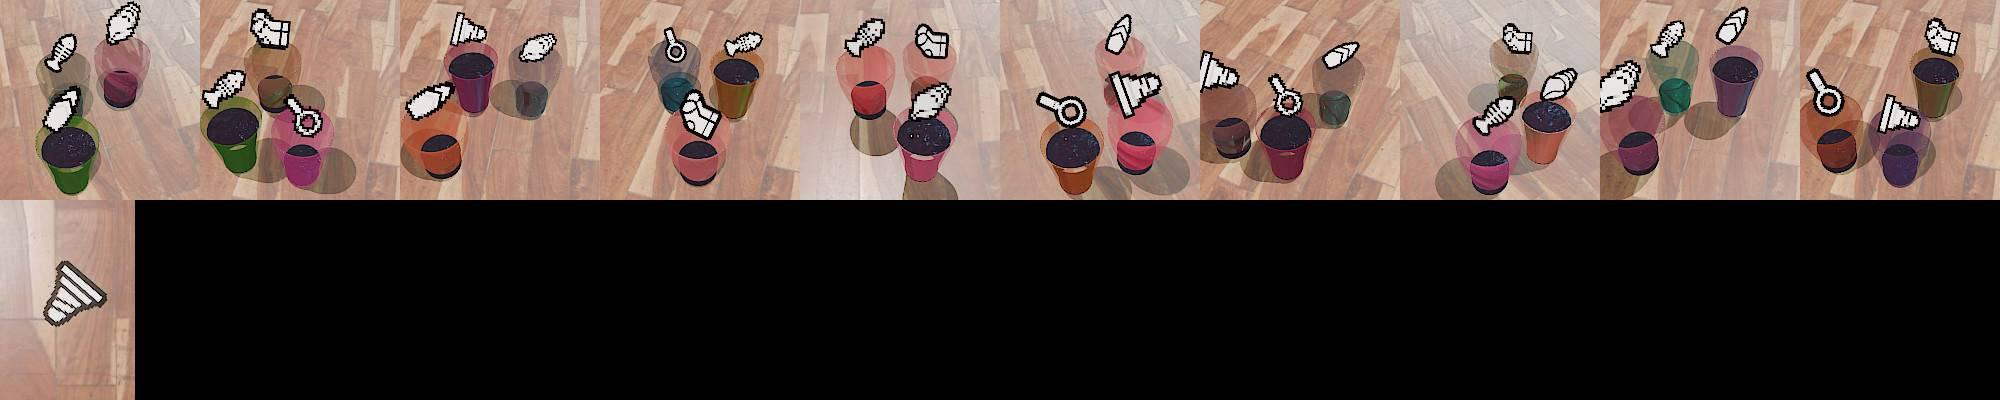icon: (41, 261, 108, 328), (1108, 69, 1165, 122), (1598, 59, 1643, 112), (679, 87, 722, 139), (404, 78, 457, 120), (1036, 90, 1087, 131), (201, 67, 248, 110), (1473, 92, 1519, 135), (1806, 67, 1845, 117), (284, 94, 324, 141), (42, 85, 82, 132), (249, 7, 292, 50), (909, 78, 953, 120), (843, 16, 886, 58), (1877, 93, 1922, 133), (1265, 73, 1303, 118), (104, 1, 142, 45), (1200, 50, 1239, 91), (1650, 19, 1688, 59), (1539, 65, 1578, 103), (449, 11, 488, 49), (1924, 17, 1959, 56), (517, 32, 559, 63), (914, 23, 950, 59), (1716, 6, 1749, 45), (45, 33, 78, 72), (1104, 14, 1133, 56), (1501, 22, 1536, 55), (1321, 40, 1359, 70), (724, 30, 764, 57), (662, 27, 688, 64)
